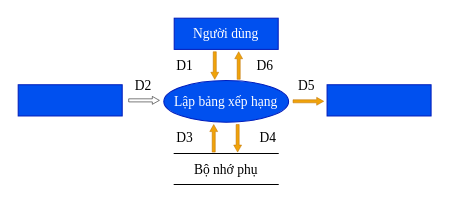
The diagram is 449 pixels wide and 203 high, and some of its shapes have lost their labels. Here are the shapes that lost their labels. From the top down, the centre of each, then its label:
At point (69, 100): "Thiết bị nhập".
At point (378, 100): "Thiết bị xuất".
